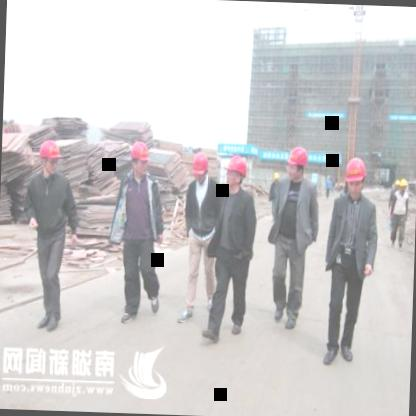helmet: (342, 156, 370, 200), (186, 150, 211, 188), (127, 138, 150, 178), (224, 156, 248, 194), (38, 139, 63, 175), (286, 144, 308, 184)
